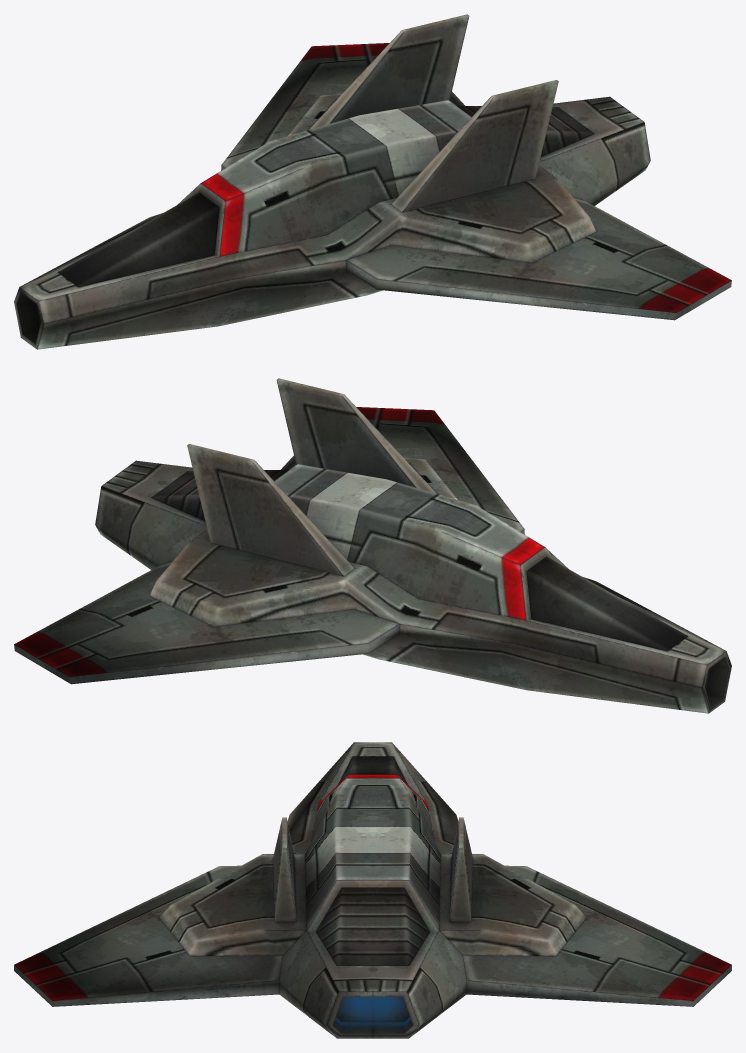
Rendered from space_frigate_6.obj.
3 views of the same model, one above another, from view 1: azimuth 30°, elevation 25°; view 2: azimuth 150°, elevation 25°; view 3: azimuth 270°, elevation 25° (orthographic).
Parts seen in each view (by area): view 1: space_frigate_6; view 2: space_frigate_6; view 3: space_frigate_6.
Part boxes in pixels (x1,y1,x2,y2): space_frigate_6: [14, 14, 731, 349]; space_frigate_6: [14, 378, 731, 713]; space_frigate_6: [14, 742, 731, 1038].
Bounding box in the file's own units: 26.55 × 7.68 × 28.02.
1 material, 1 textured.
